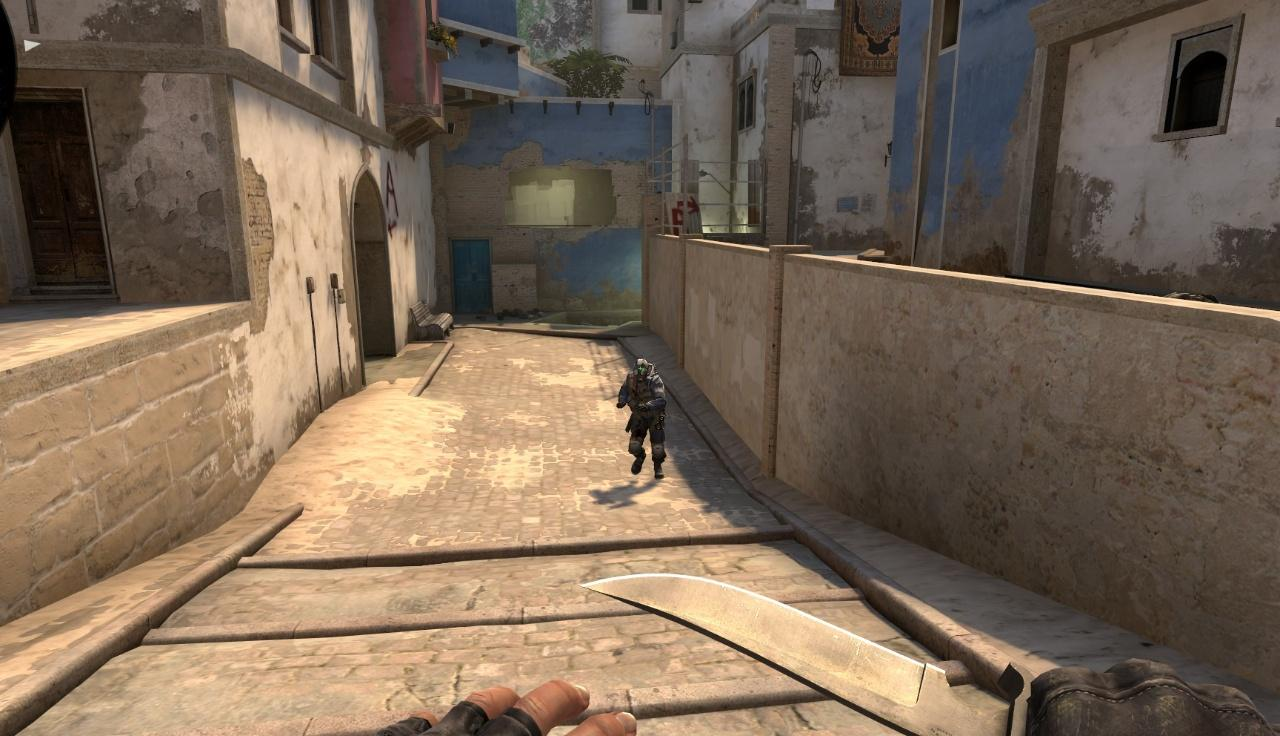ct: (618, 358, 667, 479)
cthead: (632, 359, 649, 383)
